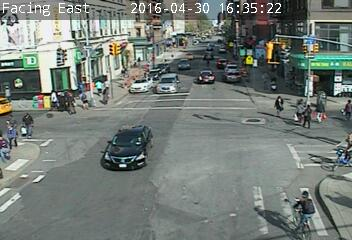neg: (286, 190, 321, 236), (105, 127, 129, 159), (171, 156, 192, 185), (68, 183, 89, 211), (308, 145, 329, 173), (337, 132, 351, 166), (38, 139, 56, 164), (258, 198, 276, 222), (186, 110, 203, 133), (323, 48, 339, 69), (145, 102, 161, 123), (9, 76, 23, 95), (108, 41, 121, 57), (302, 39, 314, 55), (154, 62, 166, 78), (125, 77, 137, 93), (152, 35, 164, 51), (243, 53, 254, 68), (228, 68, 239, 83), (265, 30, 276, 45), (183, 78, 193, 91), (252, 117, 261, 129), (205, 60, 211, 68), (188, 52, 193, 59), (204, 28, 209, 34), (172, 48, 175, 51)
pos: (56, 87, 79, 117), (15, 110, 38, 139), (309, 95, 331, 124), (290, 97, 311, 124), (270, 93, 290, 120), (299, 104, 319, 130), (43, 88, 61, 112), (258, 71, 274, 93), (267, 74, 282, 94), (340, 98, 351, 123), (76, 89, 90, 108), (100, 87, 114, 105), (100, 74, 113, 92), (91, 79, 104, 95)
